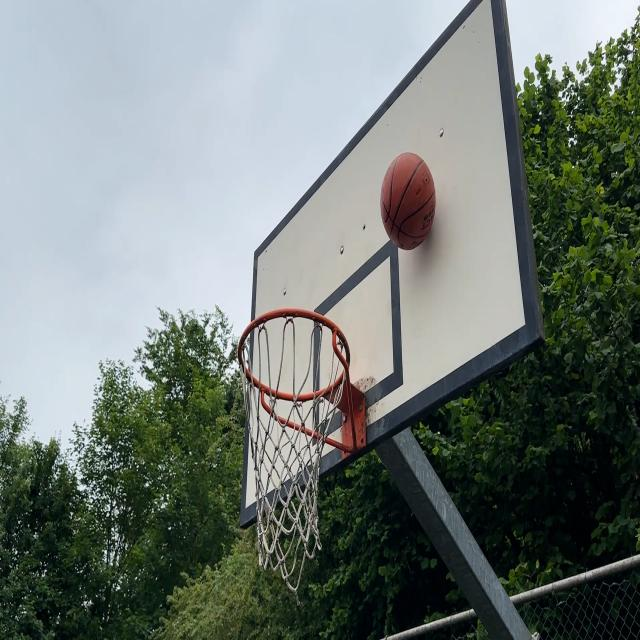rebound_hit: (380, 152, 437, 250)
